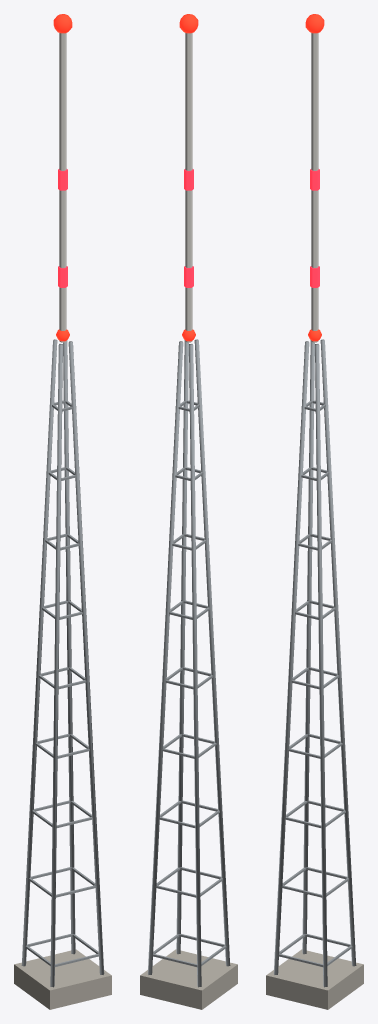
File: antenna_mast.glb
3 views of the same model, side by side, from view 1: azimuth 30°, elevation 25°; view 2: azimuth 150°, elevation 25°; view 3: azimuth 330°, elevation 25° (orthographic).
Parts seen in each view (by area): view 1: antenna_mast; view 2: antenna_mast; view 3: antenna_mast.
Part boxes in pixels (x1,y1,x2,y2): antenna_mast: (14, 14, 111, 1009); antenna_mast: (140, 14, 237, 1009); antenna_mast: (266, 14, 363, 1009).
Bounding box in the file's own units: 1 × 15.04 × 1.
